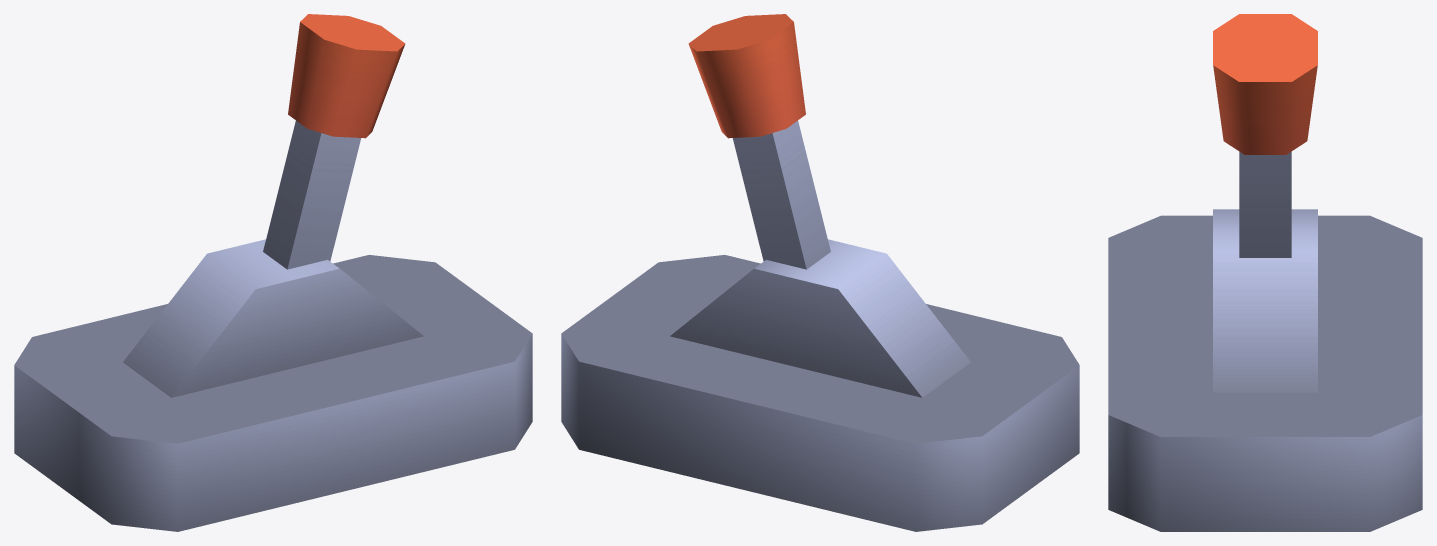
Rendered from lever-single.fbx.
3 renders of one model, left to right at view 1: azimuth 30°, elevation 25°; view 2: azimuth 150°, elevation 25°; view 3: azimuth 270°, elevation 25°, orthographic. The views are drawn at different scales.
Visible parts, largest first — view 1: lever-single, handle; view 2: lever-single, handle; view 3: lever-single, handle.
Part boxes in pixels (box(x1,y1,x2,y2)): lever-single: box(14, 239, 532, 531); handle: box(263, 14, 405, 269); lever-single: box(561, 239, 1079, 531); handle: box(688, 14, 830, 269); lever-single: box(1108, 209, 1422, 531); handle: box(1213, 14, 1317, 257).
Bounding box in the file's own units: 50 × 45.06 × 30.
